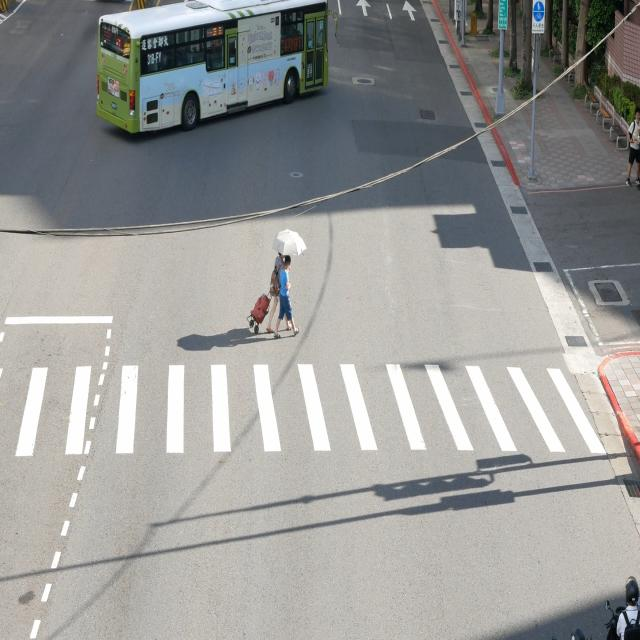pedestrian: (268, 253, 290, 300), (252, 296, 270, 332), (266, 300, 279, 337), (285, 305, 292, 318), (286, 319, 294, 330)
